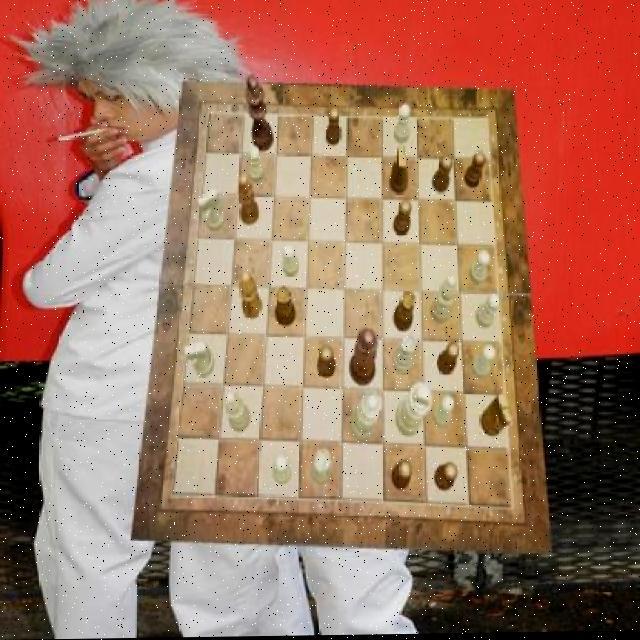bishop: (239, 272, 262, 320), (238, 174, 258, 226)
black-bishop: (245, 76, 272, 153)
black-king: (480, 395, 512, 438), (388, 148, 408, 195)
black-knight: (464, 153, 486, 191), (432, 156, 452, 194), (437, 344, 460, 377), (434, 464, 458, 492), (393, 203, 412, 238), (316, 347, 336, 380), (391, 460, 411, 491), (326, 107, 342, 145)
black-pawn: (349, 328, 378, 386)
black-queen: (392, 290, 416, 333), (274, 286, 294, 328)
black-rook: (430, 278, 456, 326), (225, 394, 249, 434)
white-bishop: (396, 384, 432, 438)
white-king: (198, 189, 225, 234), (184, 342, 214, 378)
white-knight: (475, 296, 500, 331), (471, 345, 495, 380), (468, 251, 489, 286), (392, 106, 410, 146), (433, 396, 454, 430), (282, 244, 300, 278), (248, 146, 264, 184), (273, 455, 291, 486)
white-pawn: (348, 391, 382, 444)
white-queen: (392, 335, 416, 375), (311, 450, 334, 485)
